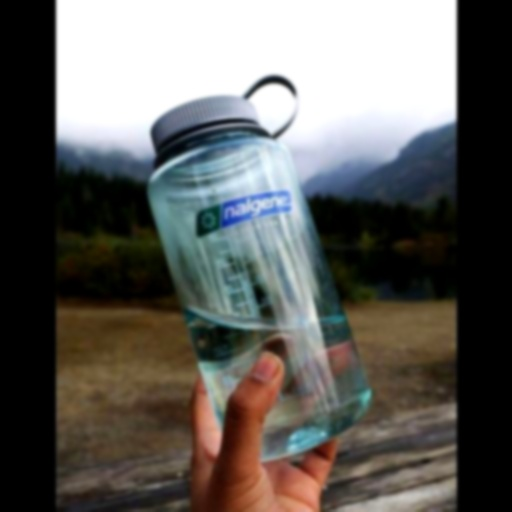bottle: (146, 75, 372, 469)
